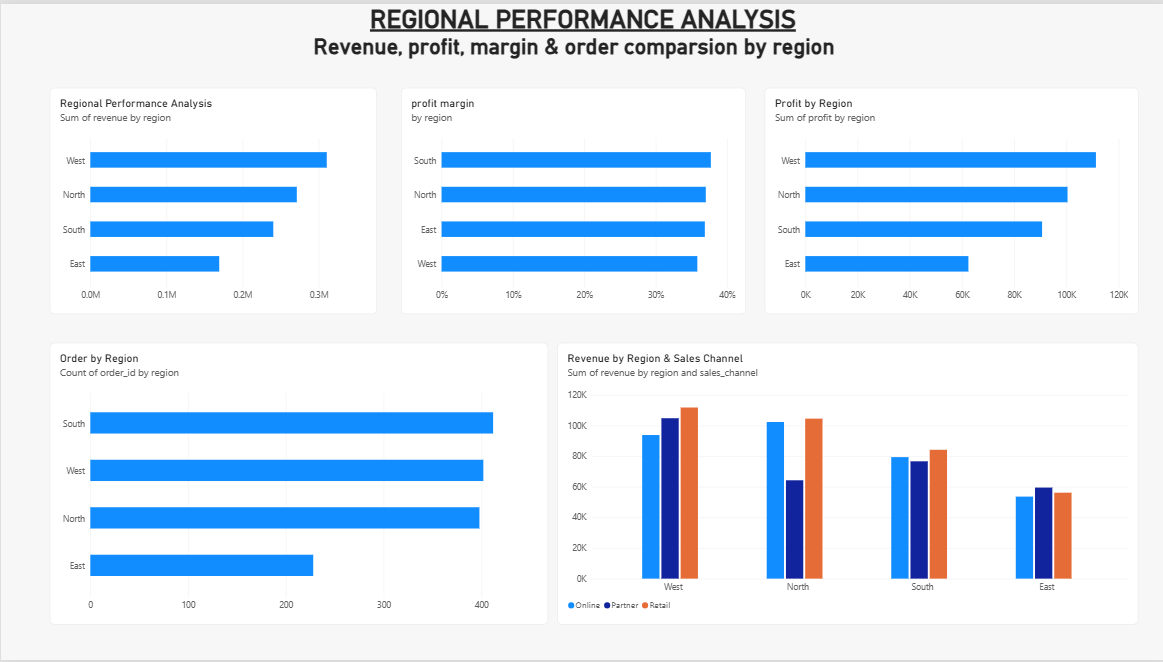

The page's visual inventory and layout, read from the dashboard file:
{"tool":"powerbi","page":{"name":"Page 6","canvas":[1920,1080],"ordinal":5},"visuals":[{"type":"clusteredBarChart","title":"Regional Performance Analysis","fields":{"Category":["sales_portfolio sales_data.region"],"Y":["Sum(sales_portfolio sales_data.revenue)"]},"box":[79.5,138.6,538.6,372.7],"z":0},{"type":"clusteredBarChart","title":"Profit  by Region","fields":{"Category":["sales_portfolio sales_data.region"],"Y":["Sum(sales_portfolio sales_data.profit)"]},"box":[1256.8,138.6,615.9,372.7],"z":1000},{"type":"clusteredBarChart","fields":{"Category":["sales_portfolio sales_data.region"],"Y":["sales_portfolio sales_data.profit margin"]},"box":[659.1,138.6,568.2,372.7],"z":2000},{"type":"clusteredBarChart","title":"Order by Region","fields":{"Category":["sales_portfolio sales_data.region"],"Y":["CountNonNull(sales_portfolio sales_data.order_id)"]},"box":[79.5,556.8,820.5,463.6],"z":3000},{"type":"clusteredColumnChart","title":"Revenue by Region & Sales Channel","fields":{"Category":["sales_portfolio sales_data.region"],"Series":["sales_portfolio sales_data.sales_channel"],"Y":["Sum(sales_portfolio sales_data.revenue)"]},"box":[915.9,556.8,956.8,463.6],"z":4000},{"type":"textbox","title":"REGIONAL PERFORMANCE ANALYSIS","box":[250,0,1418.2,50],"z":5000},{"type":"textbox","title":"Revenue, profit, margin & order comparsion by region","box":[234.1,50,1418.2,50],"z":6000}]}

Visuals, with their boxes in screenshot pixels (x1, y1, x2, y2), scaled from the page's 1920x1080 canvas onto the 1163x662 screenshot:
"Regional Performance Analysis" clusteredBarChart: bbox=[48, 85, 374, 313]
"Profit  by Region" clusteredBarChart: bbox=[761, 85, 1134, 313]
clusteredBarChart - sales_portfolio sales_data.region x sales_portfolio sales_data.profit margin: bbox=[399, 85, 743, 313]
"Order by Region" clusteredBarChart: bbox=[48, 341, 545, 625]
"Revenue by Region & Sales Channel" clusteredColumnChart: bbox=[555, 341, 1134, 625]
"REGIONAL PERFORMANCE ANALYSIS" textbox: bbox=[151, 0, 1010, 31]
"Revenue, profit, margin & order comparsion by region" textbox: bbox=[142, 31, 1001, 61]
